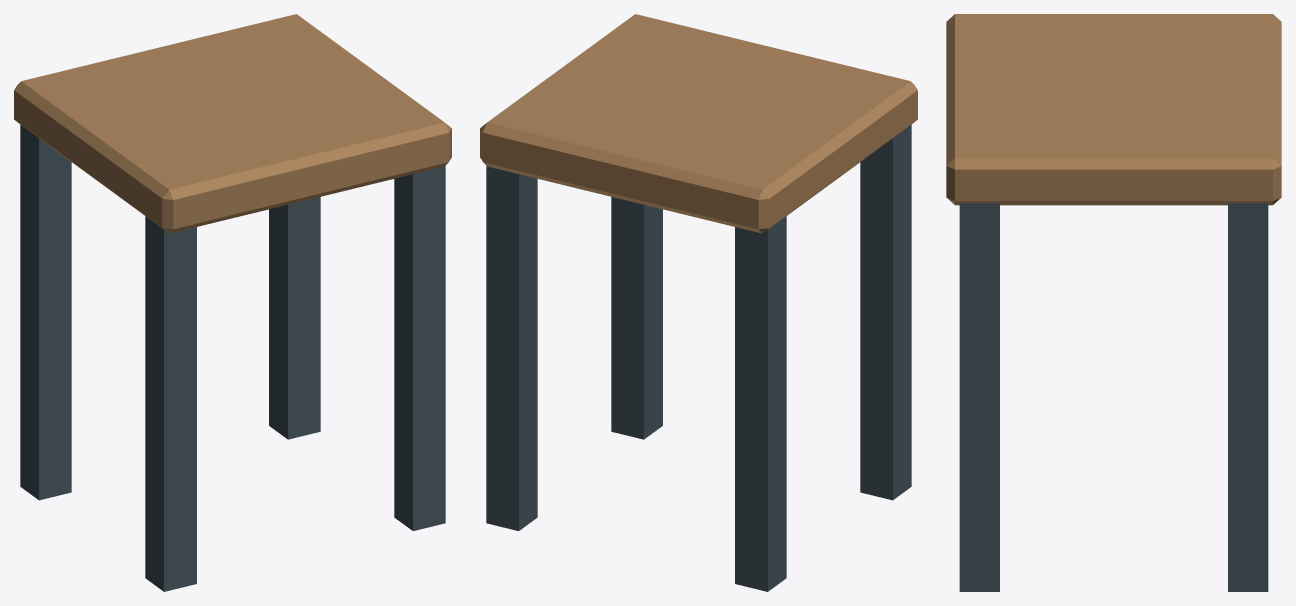
The model's file is bar_stool.glb.
3 renders of one model, left to right at view 1: azimuth 30°, elevation 25°; view 2: azimuth 150°, elevation 25°; view 3: azimuth 270°, elevation 25°, orthographic. The views are drawn at different scales.
Parts seen in each view (by area): view 1: bar_stool; view 2: bar_stool; view 3: bar_stool.
Boxes of the visible parts, bbox=[...] form: bar_stool: bbox=[14, 14, 451, 591]; bar_stool: bbox=[480, 14, 917, 591]; bar_stool: bbox=[946, 14, 1281, 591].
Size of the model in its own units: 0.62 by 0.825 by 0.58.
